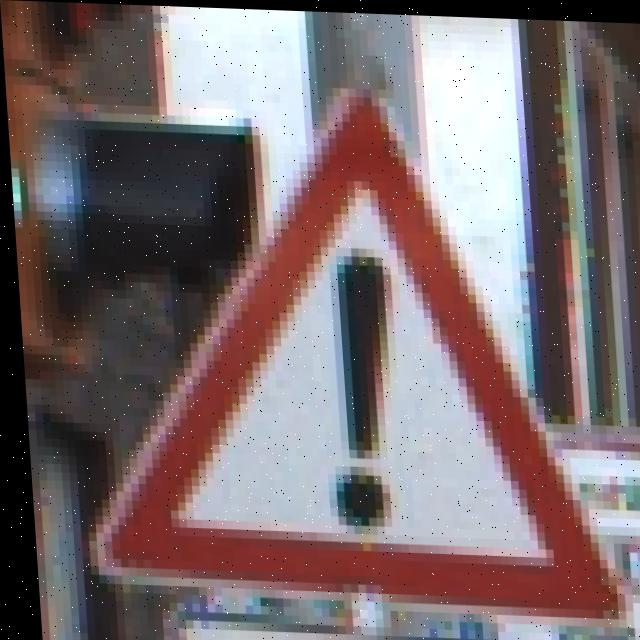warning: (138, 163, 619, 627)
